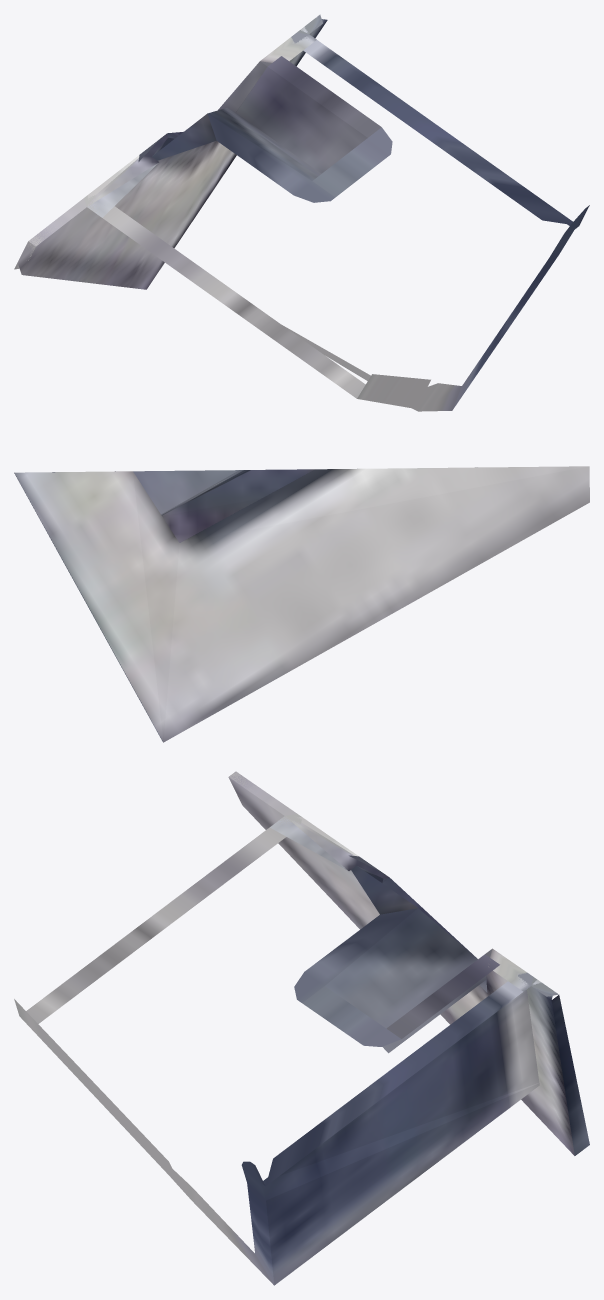
3 views of the same model, one above another, from view 1: azimuth 30°, elevation 25°; view 2: azimuth 150°, elevation 25°; view 3: azimuth 270°, elevation 25° (orthographic). The views are drawn at different scales.
Bounding box in the file's own units: 10.66 × 5.13 × 9.07.
1 material, 1 textured.
